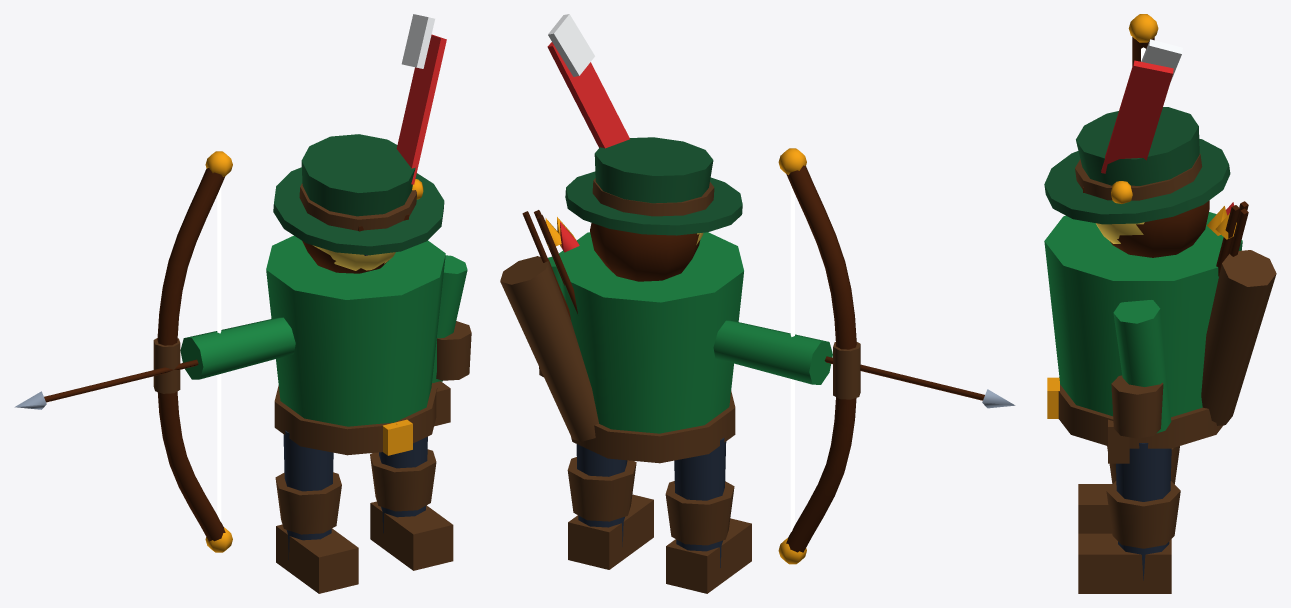
Rendered from archer.glb.
3 views of the same model, side by side, from view 1: azimuth 30°, elevation 25°; view 2: azimuth 150°, elevation 25°; view 3: azimuth 270°, elevation 25° (orthographic). The views are drawn at different scales.
Visible parts, largest first — view 1: archer; view 2: archer; view 3: archer.
Part boxes in pixels (x1,y1,x2,y2): archer: (14,14,471,593); archer: (500,14,1015,593); archer: (1044,14,1276,593).
Size of the model in its own units: 0.9195 by 0.9948 by 0.3745.
